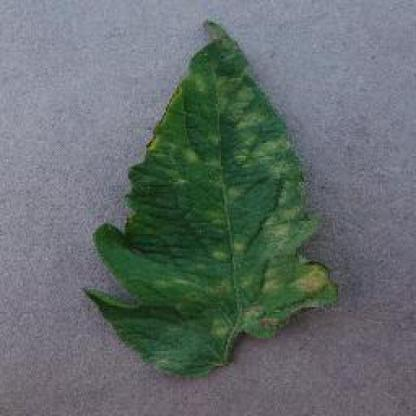Tomato_Leaf_Mold: (91, 21, 335, 368)
